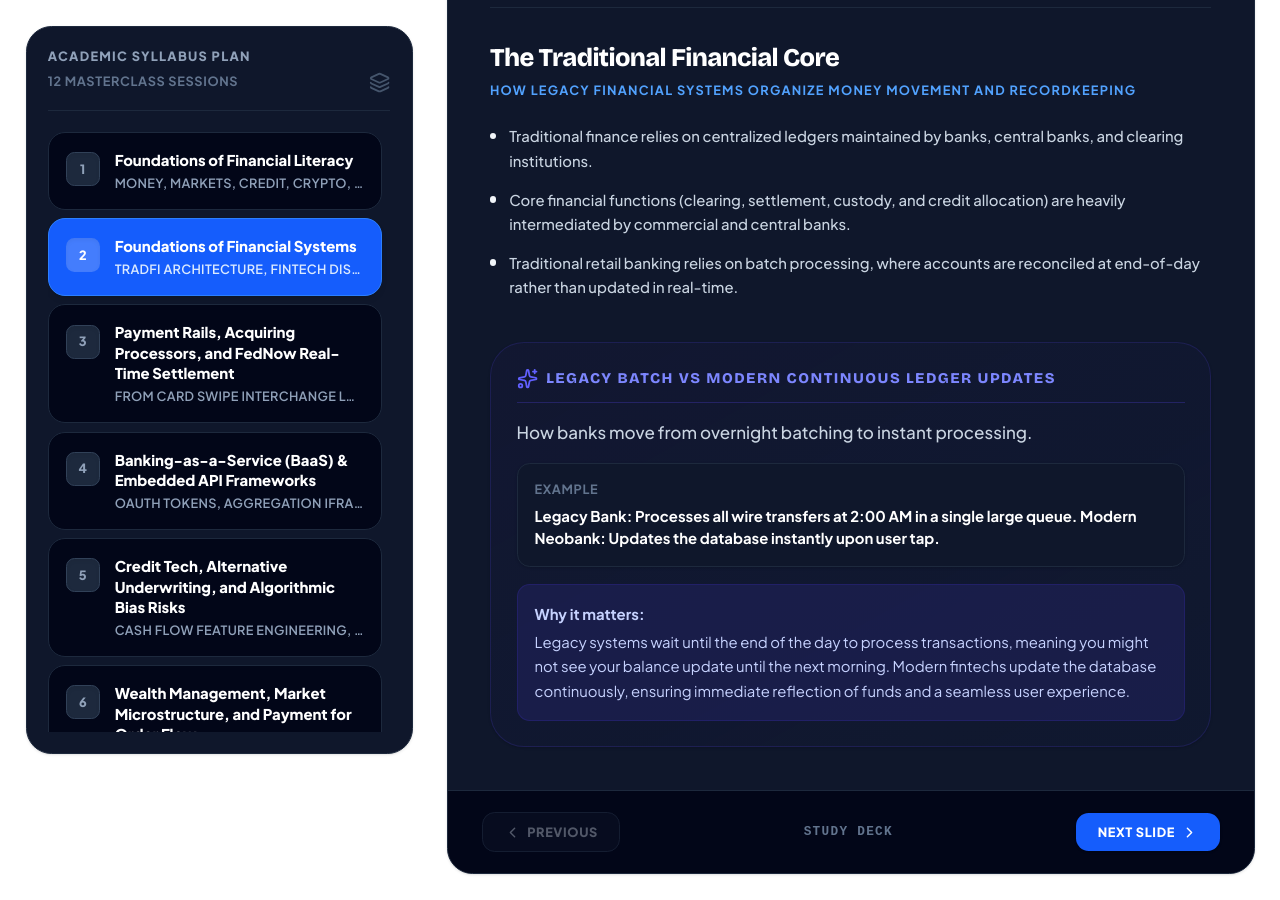
KnowledgeBase › advances to the next slide
(page scrolled)
Click the button "Next Slide": (1148, 832) [1076,813,1220,851]
(page scrolled)
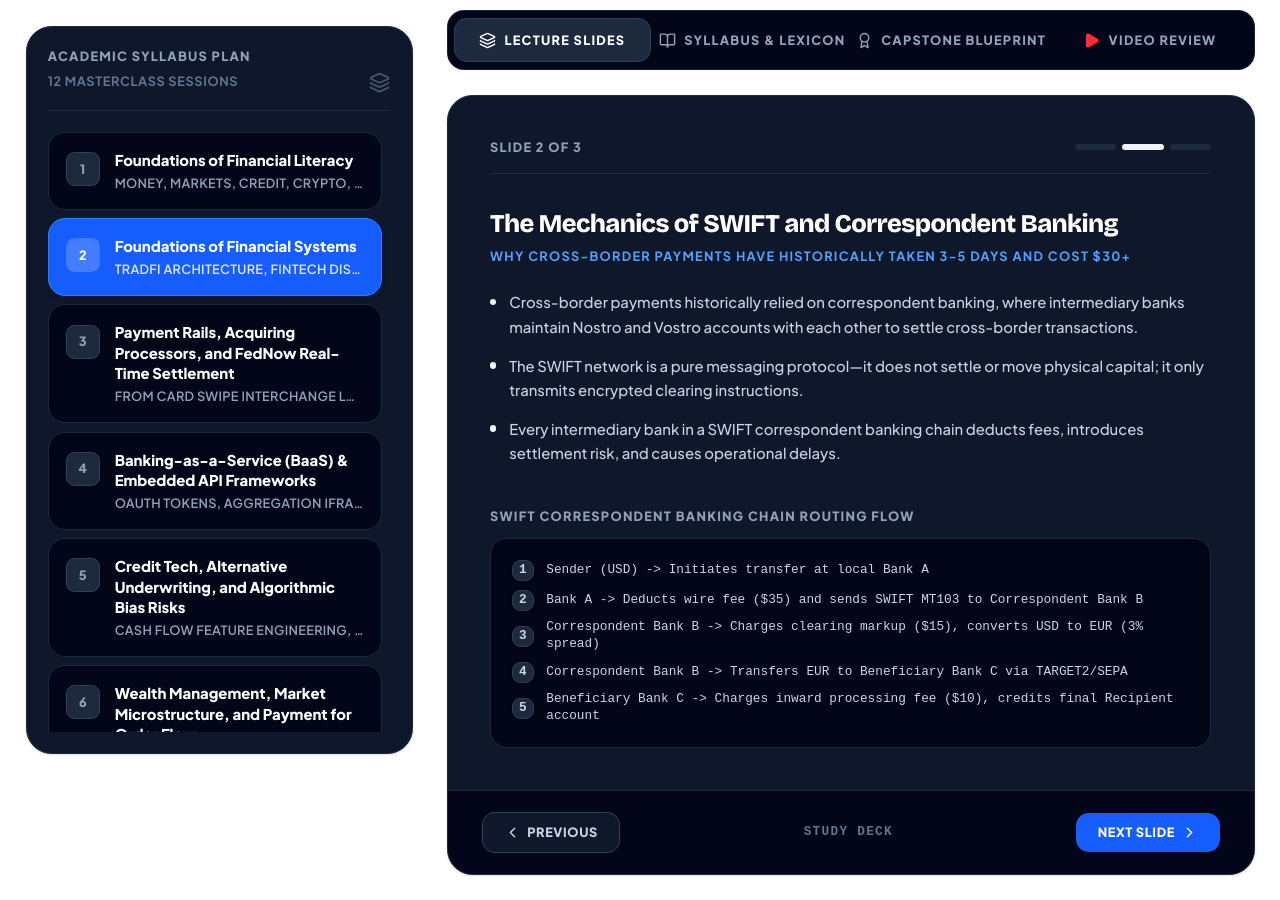
expect the text "SLIDE 2 OF 3" is shown: met, box [490,139,582,156]
